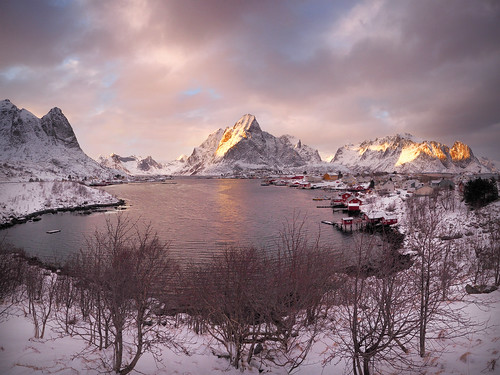mountain: (179, 105, 321, 153), (329, 113, 471, 161), (1, 93, 72, 144), (92, 150, 164, 164)
river: (44, 178, 381, 296)
sky: (13, 1, 500, 124)
vegetation: (1, 226, 500, 375)
